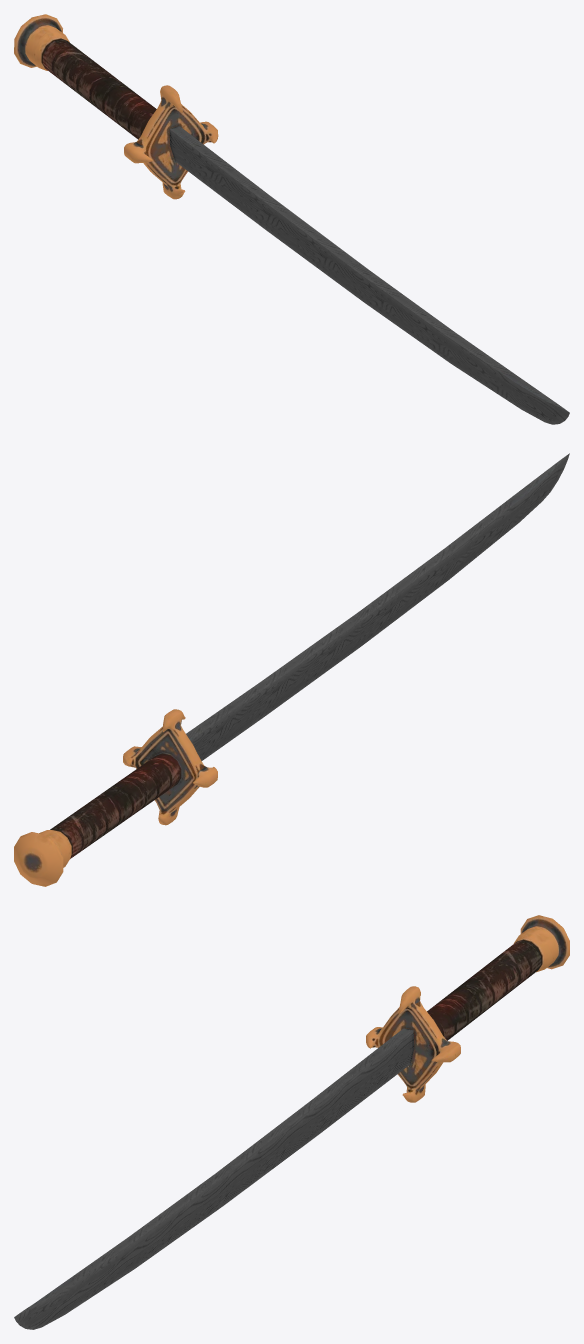
Rendered from katana_base.glb.
3 renders of one model, top to bottom at view 1: azimuth 30°, elevation 25°; view 2: azimuth 150°, elevation 25°; view 3: azimuth 330°, elevation 25°, orthographic.
Visible parts, largest first — view 1: Cube; view 2: Cube; view 3: Cube.
Part boxes in pixels (x1,y1,x2,y2): Cube: (14,14,569,424); Cube: (14,453,569,886); Cube: (14,915,569,1329).
Size of the model in its own units: 0.1033 by 0.1254 by 1.11.
1 material, 1 textured.
